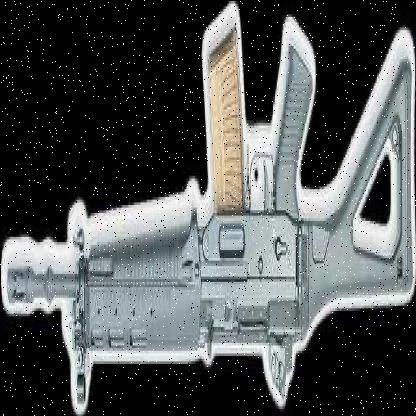rifle: (7, 2, 416, 394)
